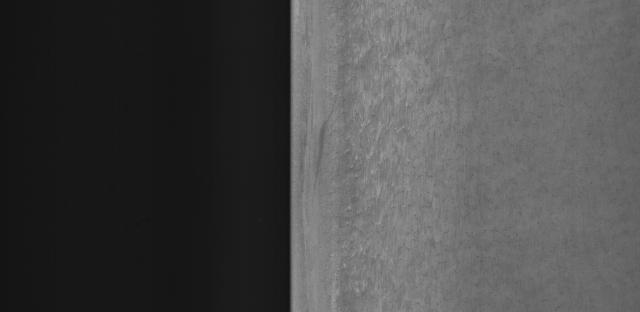silk_spot: (327, 11, 473, 303)
